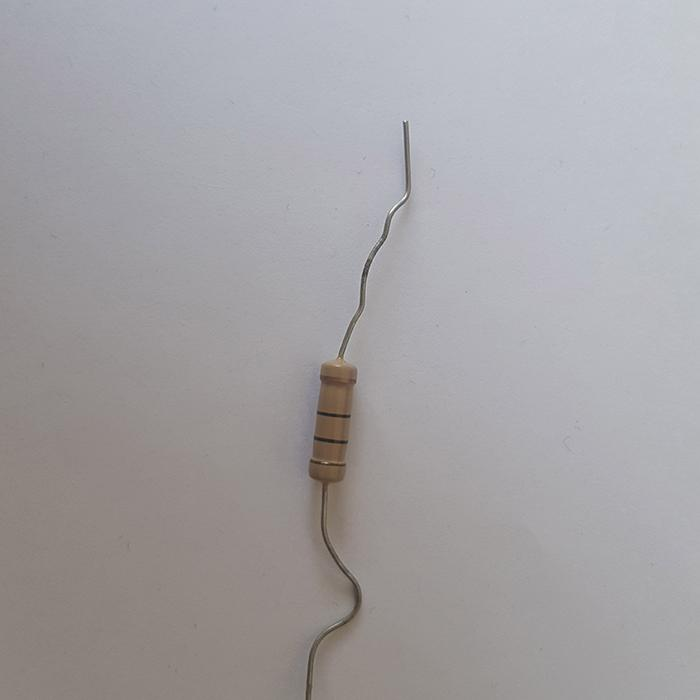resistor: (308, 358, 357, 482)
